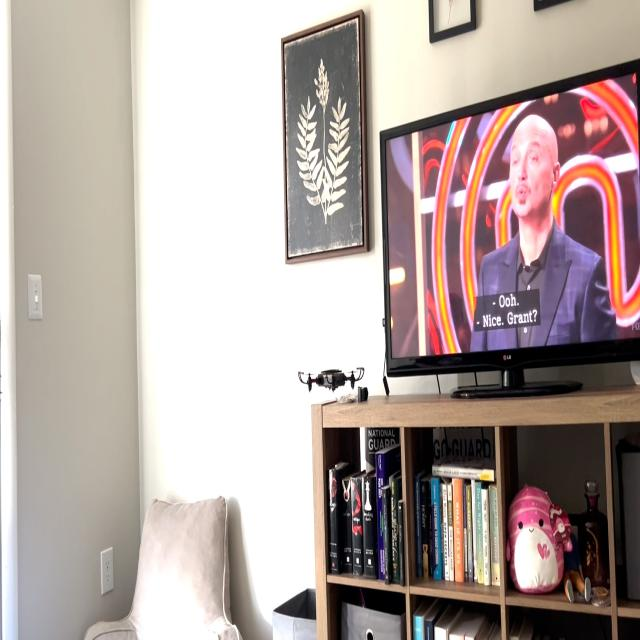drone: (290, 348, 372, 401)
